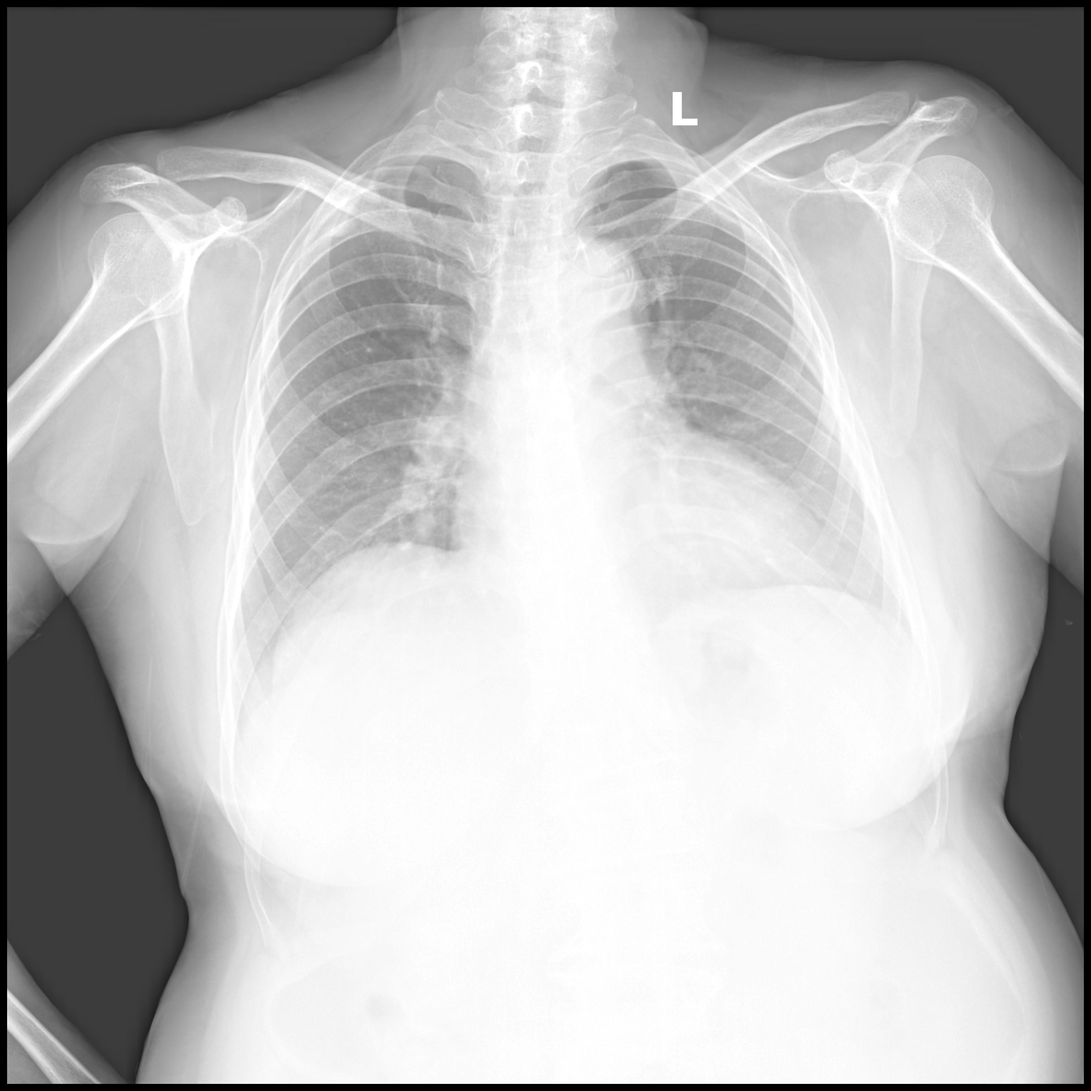Aortic enlargement: (542, 233, 642, 317)
Cardiomegaly: (451, 473, 841, 583)
Pleural thickening: (690, 167, 762, 237), (316, 169, 371, 233)
